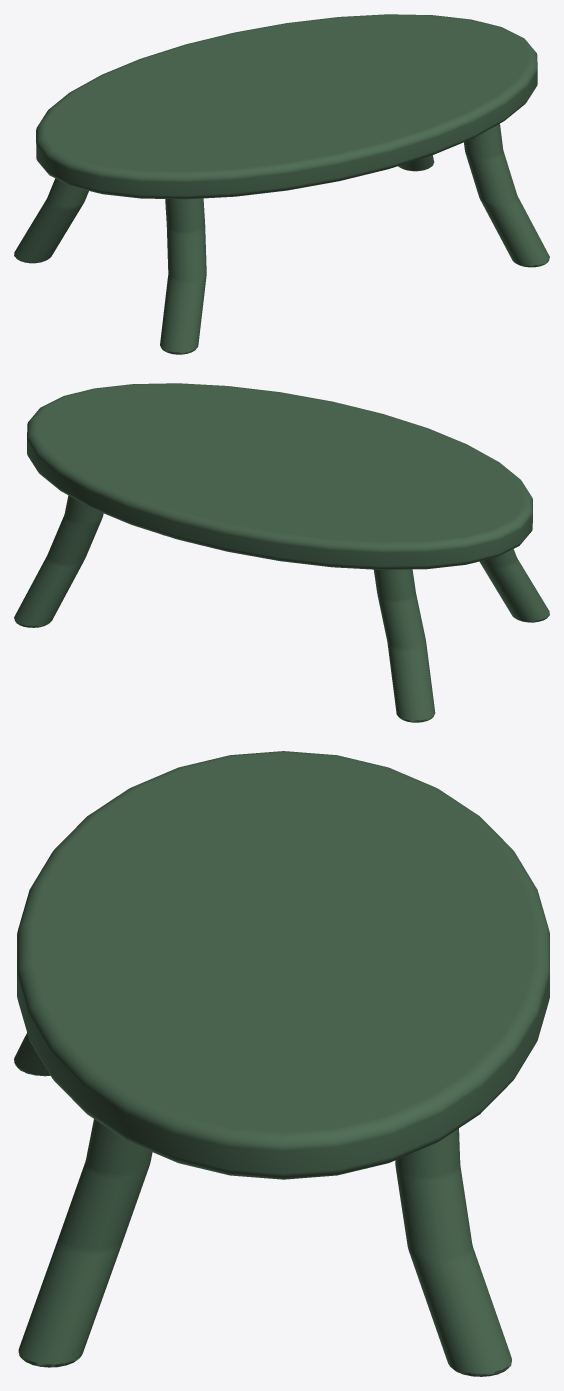
File: Meja_Sofa.fbx
The picture shows the model from 3 angles, top to bottom: view 1: azimuth 30°, elevation 25°; view 2: azimuth 150°, elevation 25°; view 3: azimuth 270°, elevation 25°; orthographic projection. The views are drawn at different scales.
Parts seen in each view (by area): view 1: polySurface2; view 2: polySurface2; view 3: polySurface2.
Boxes of the visible parts, bbox=[...] form: polySurface2: bbox=[14, 14, 549, 354]; polySurface2: bbox=[14, 383, 549, 722]; polySurface2: bbox=[14, 751, 549, 1376].
Bounding box in the file's own units: 7.44 × 2.36 × 4.28.
